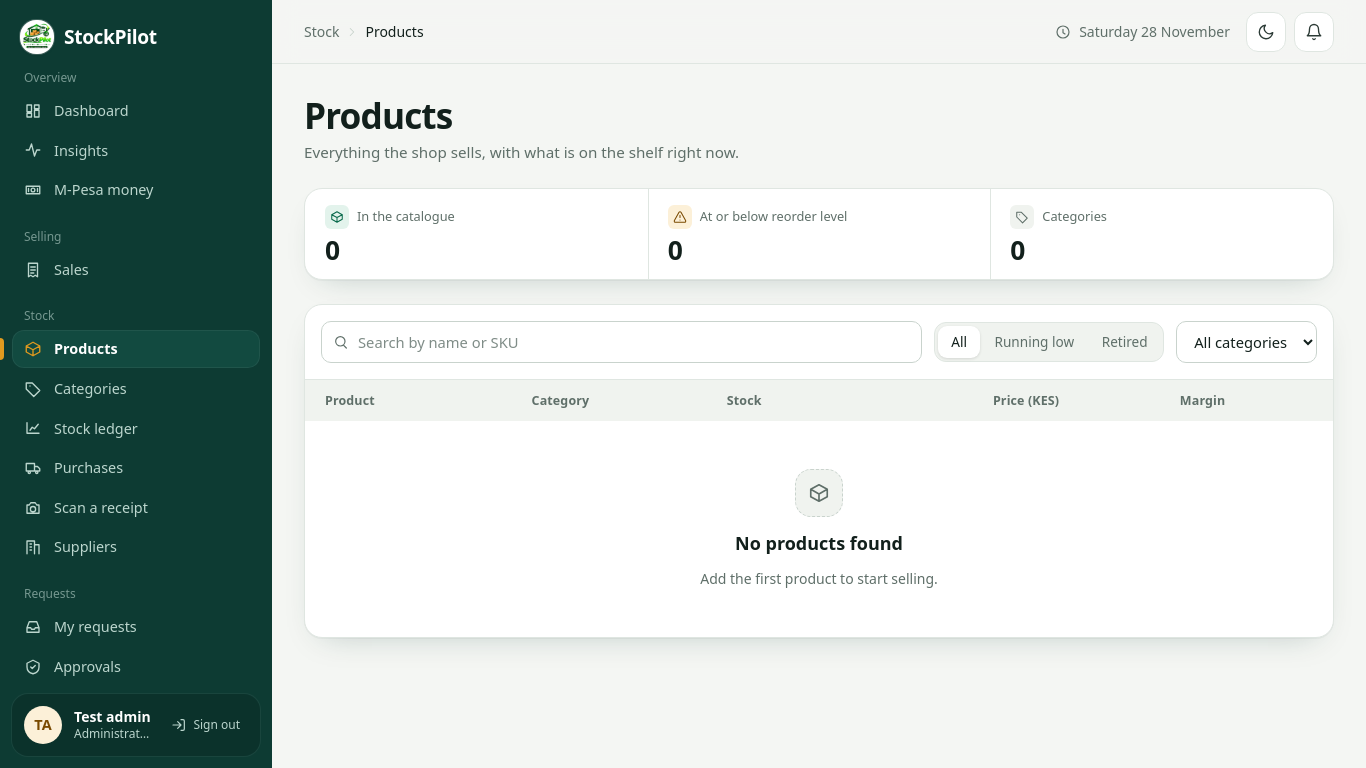
Test: sign in › signs out on the server too, and clears the stored session
The width and height of the screenshot is (1366, 768).
Click the button "Sign out": {"x": 206, "y": 725} [163,711,248,739]
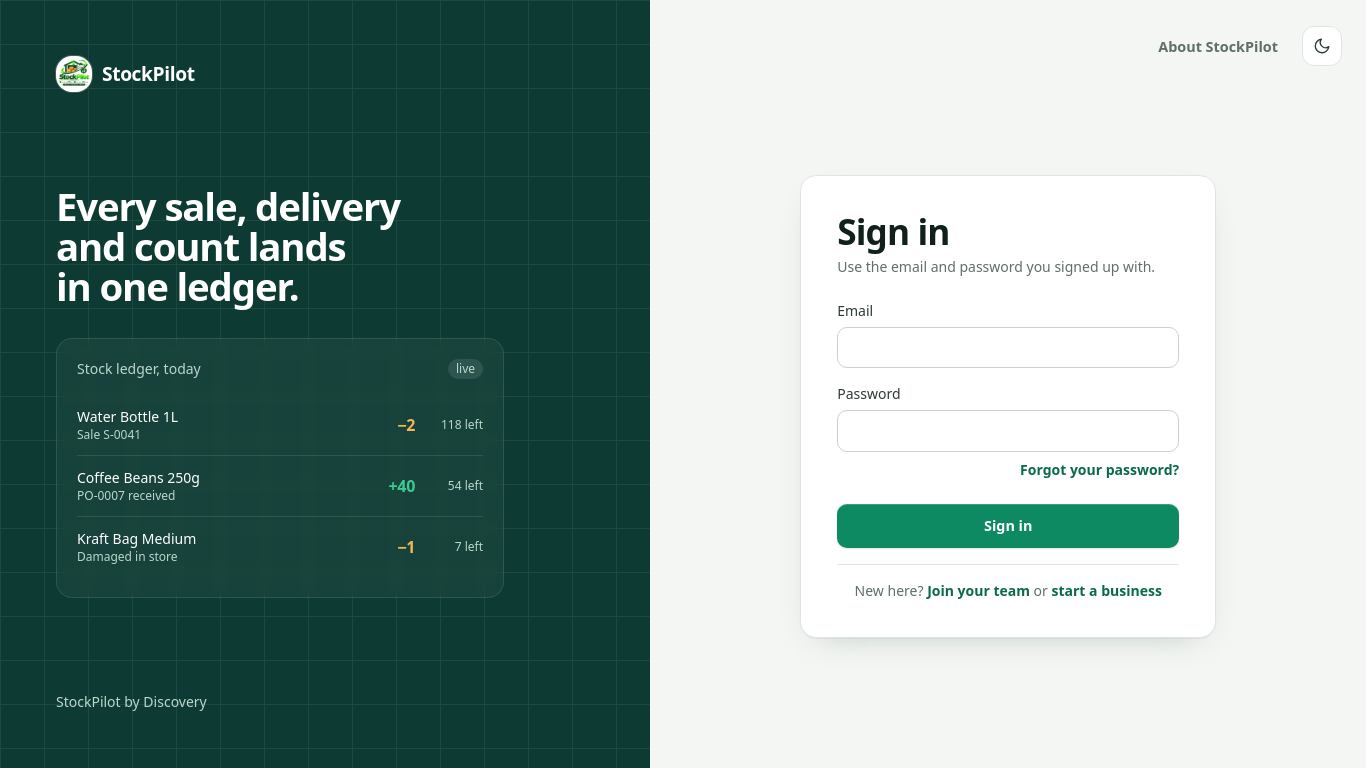
Expected: the heading "Sign in" is shown, [837,207,950,255]
